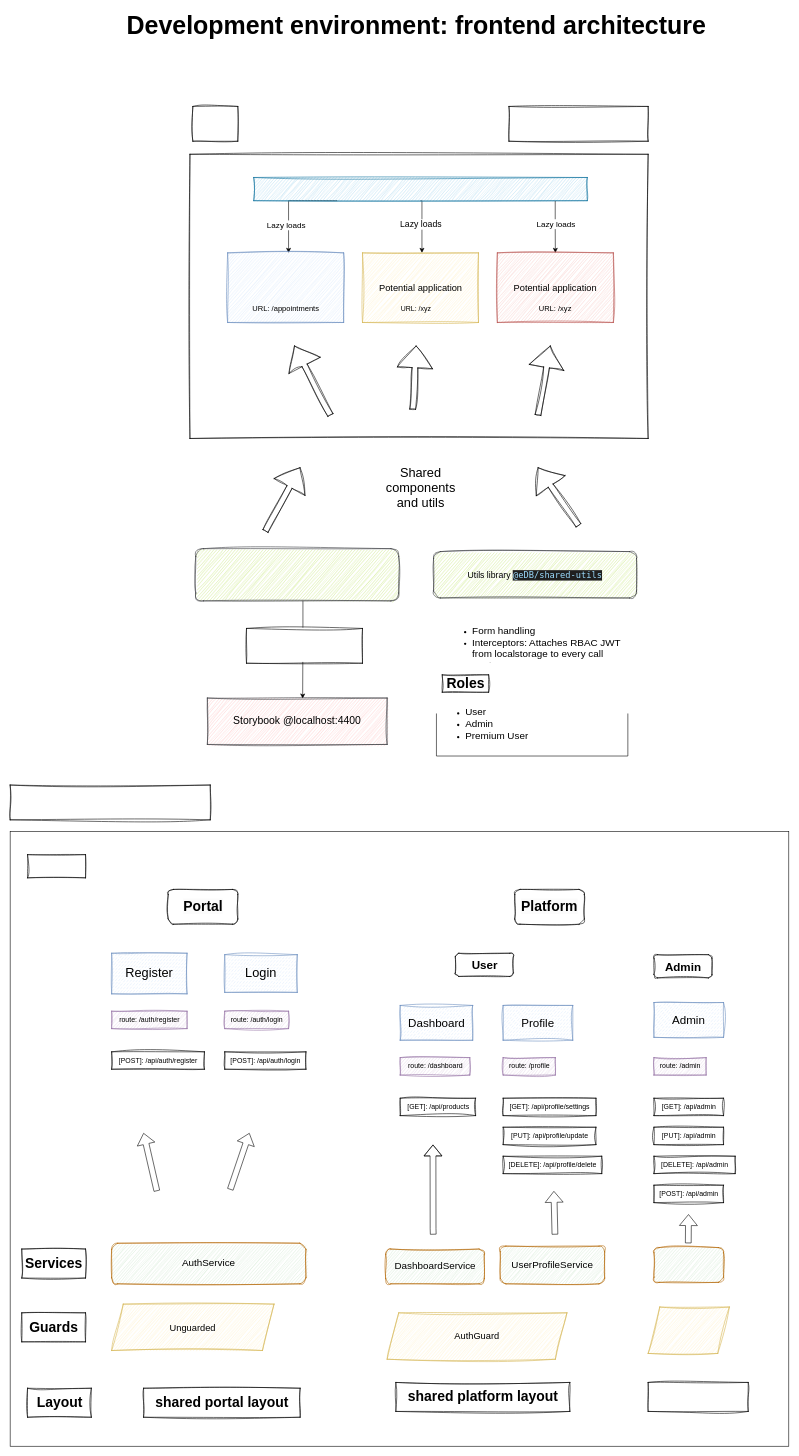
The diagram is 799 pixels wide and 1456 high, and some of its shapes have lost their labels. Each missing label, with the box of its shape:
admin layout: (648, 1382, 748, 1411)
AdminGuard: (648, 1306, 729, 1353)
AdminService: (653, 1247, 724, 1282)
Appointment application: (227, 252, 344, 322)
CMD: nx serve eDB: (508, 106, 648, 141)
CMD: nx storybook ui: (246, 628, 362, 663)
Nx: (192, 106, 238, 141)
Pages: (27, 854, 86, 878)
Platform application: (10, 784, 210, 820)
Platform application @localhost:4200: (253, 177, 587, 201)
UI library @eDB/shared-ui: (195, 548, 399, 601)
